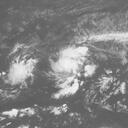cyclone: (49, 46, 92, 91)
